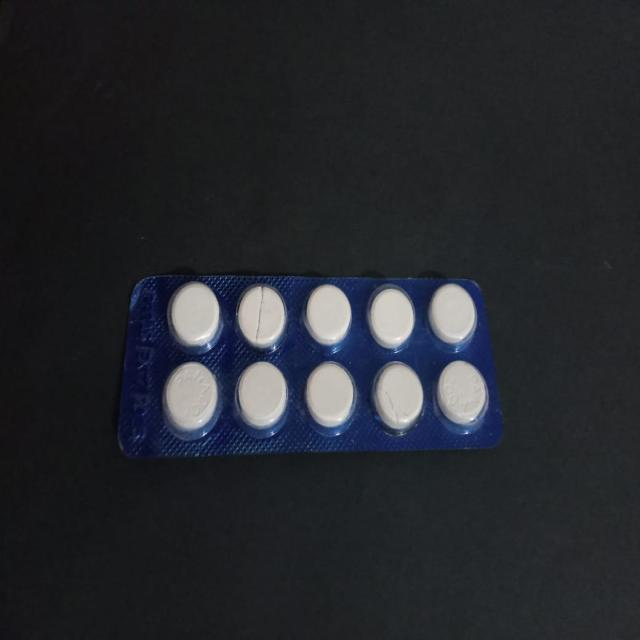defect: (369, 357, 427, 439), (233, 279, 292, 358)
